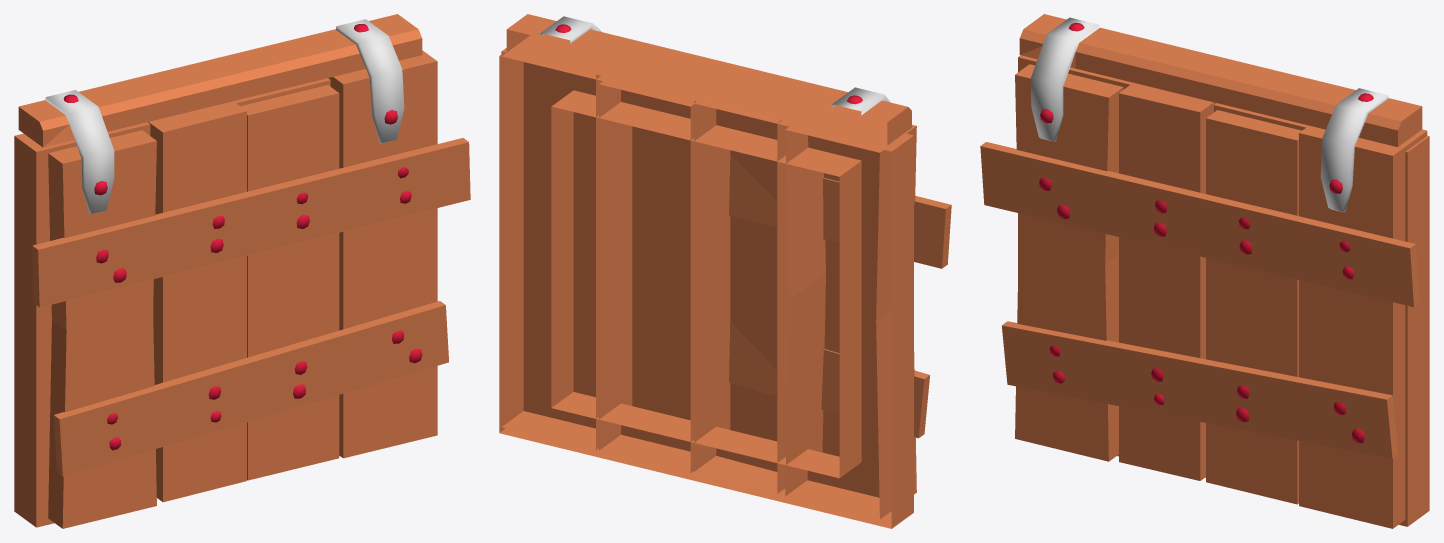
Rendered from Window_1.fbx.
3 views of the same model, side by side, from view 1: azimuth 30°, elevation 25°; view 2: azimuth 150°, elevation 25°; view 3: azimuth 330°, elevation 25° (orthographic).
Visible parts, largest first — view 1: Window_1; view 2: Window_1; view 3: Window_1.
Boxes of the visible parts, box(x1,y1,x2,y2) form: Window_1: box(14, 14, 470, 528); Window_1: box(499, 14, 951, 528); Window_1: box(980, 14, 1429, 528).
Bounding box in the file's own units: 0.7361 × 0.6666 × 0.1236.
